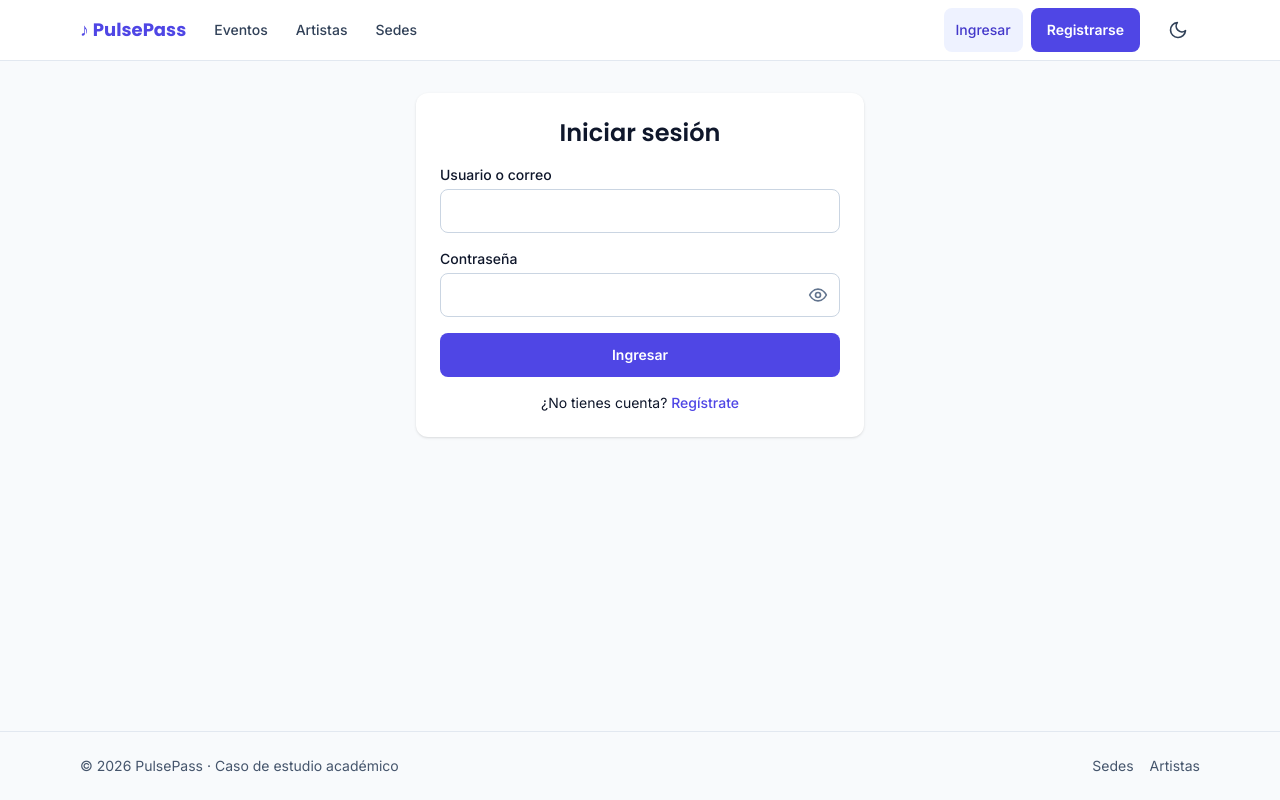
Test: Autenticación › TEST-FE-AUTH-003: login sin campos → errores y 0 peticiones
Click the button "Ingresar" at (640, 355), box left=440, top=333, right=840, bottom=377
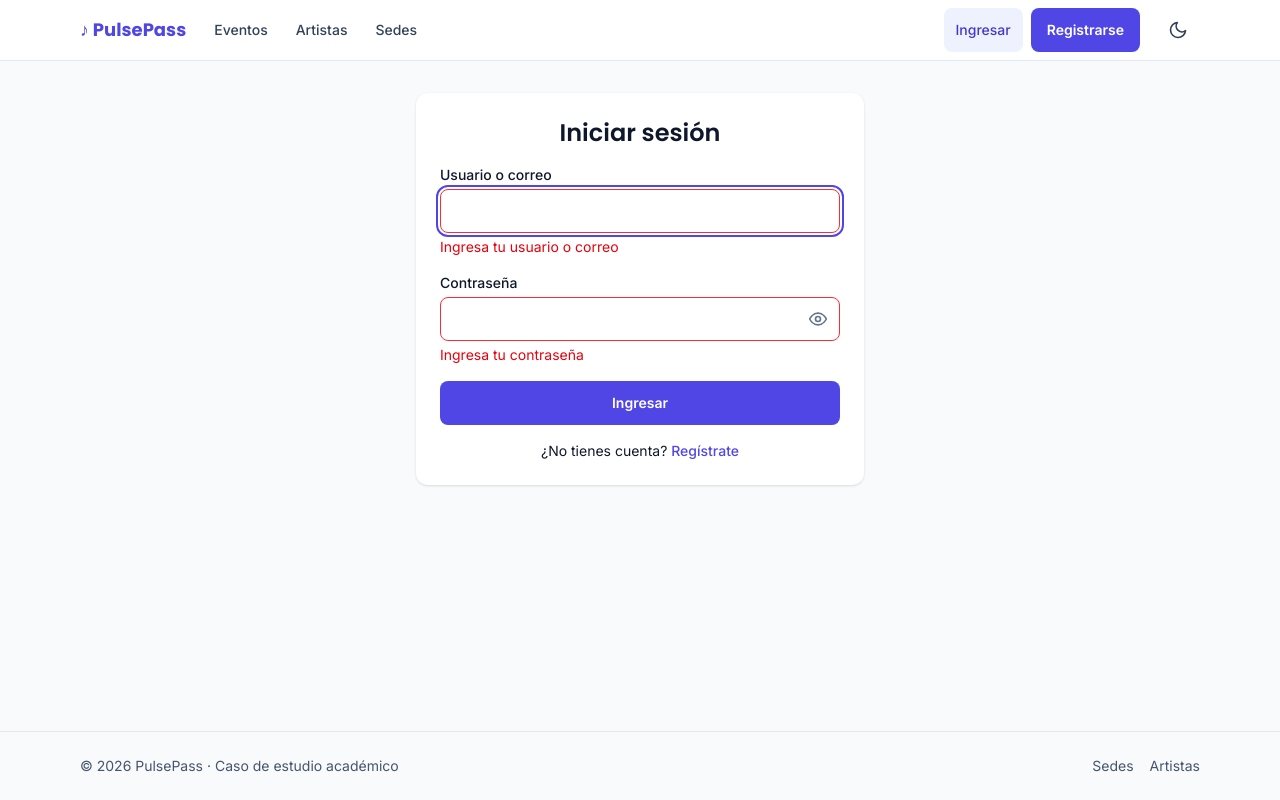
Check: the text "Ingresa tu usuario o correo" is shown, box left=440, top=238, right=619, bottom=255
Check: the text "Ingresa tu contraseña" is shown, box left=440, top=346, right=584, bottom=363
